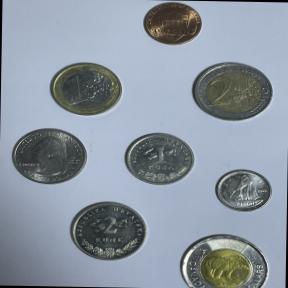coin: (185, 58, 279, 128), (64, 197, 153, 265), (6, 124, 92, 190), (176, 230, 272, 288), (46, 57, 128, 122), (138, 0, 208, 51), (213, 166, 275, 216)
